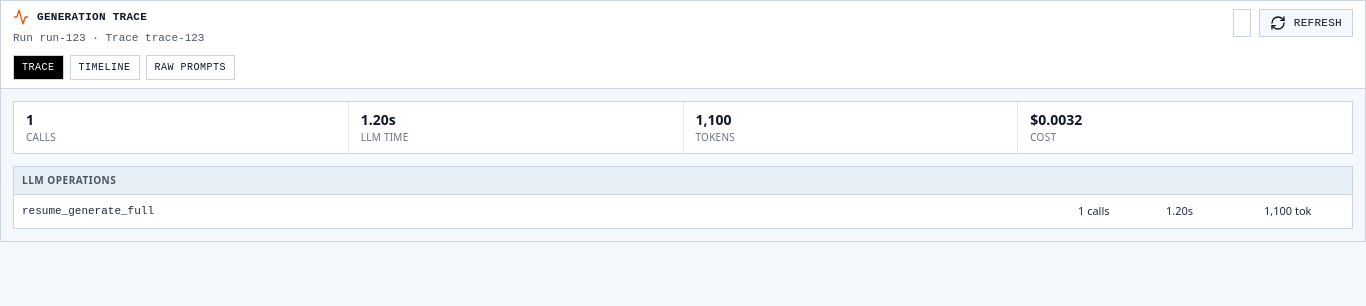
Test: GenerationObservabilityPanel › loads only the linked trace and generation run
The image size is (1366, 306).
Expected: the text "resume_generate_full" is shown, [22,205,154,217]
Click the button "Timeline" at (104, 68), box [70,55,140,80]
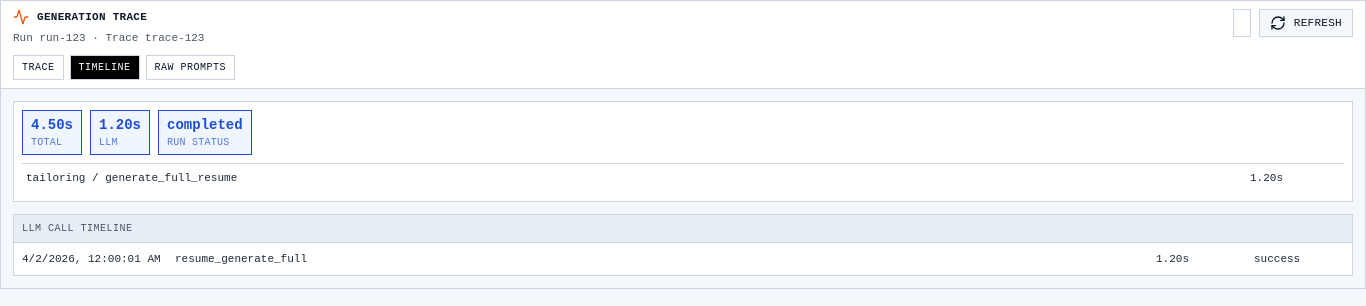
Result: the text "tailoring / generate_full_resume" is shown at [26,172,237,184]
Click the button "Raw Prompts" at (190, 68), box [146,55,235,80]
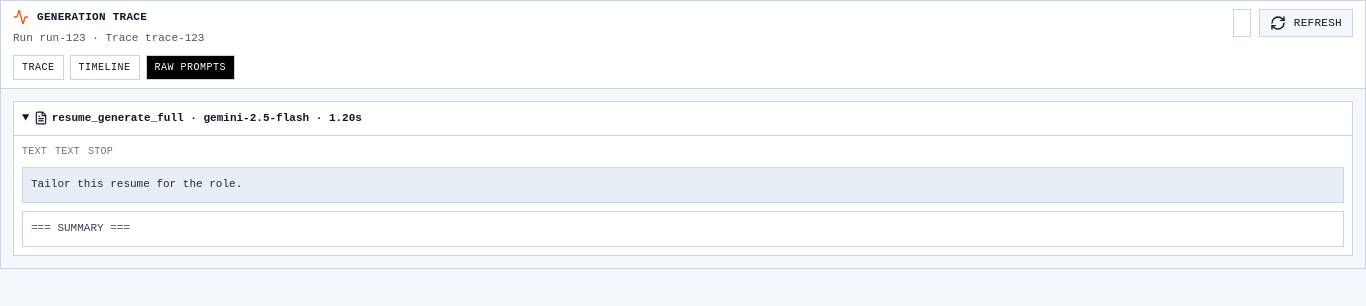
Result: the text "Tailor this resume for the role." is shown at [22,167,1344,203]
Result: the text "=== SUMMARY ===" is shown at [22,211,1344,247]
